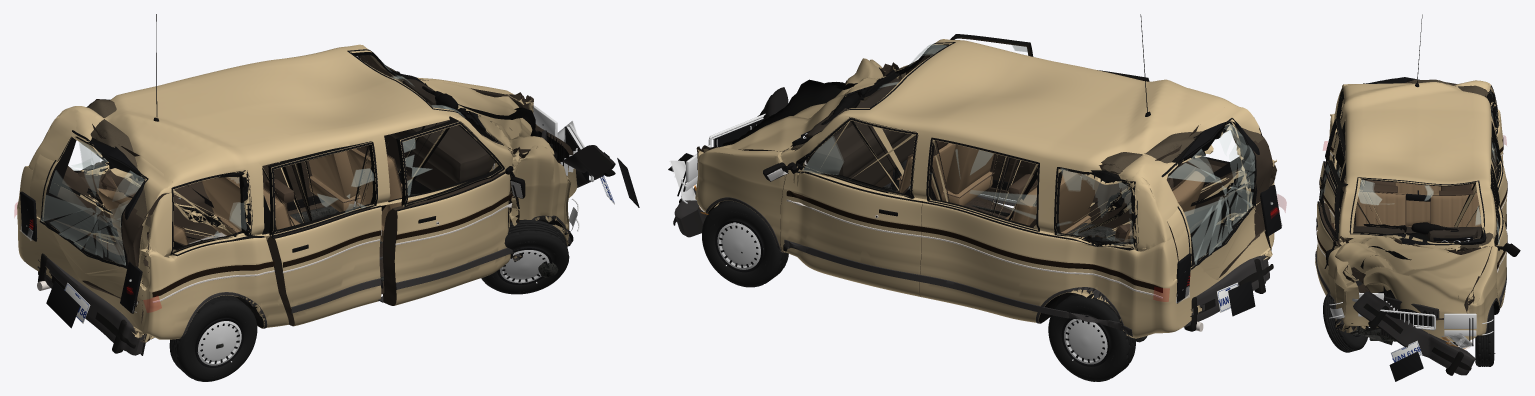
Rendered from minivan86_front_corner_R_d2.glb.
3 renders of one model, left to right at view 1: azimuth 30°, elevation 25°; view 2: azimuth 150°, elevation 25°; view 3: azimuth 270°, elevation 25°, orthographic. The views are drawn at different scales.
Parts seen in each view (by area): view 1: Body, Interior, Door_FR, Door_SR, Glass_Liftgate, Liftgate, Wheel_RR_mesh, Ends, Wheel_FR_mesh, Hood, Trim_FR, Trim (+8 smaller); view 2: Body, Door_FL, Interior, Trim, Glass_Liftgate, Liftgate, Wheel_RL_mesh, Wheel_FL_mesh, Hood, Ends, Glass, Trim_FL (+5 smaller); view 3: Body, Hood, Interior, Bumper_F, Ends, Glass, Door_FR, Trim, Wheel_FR_mesh, Door_FL, Wheel_FL_mesh, Door_SR (+6 smaller).
Boxes of the visible parts, box(x1,y1,x2,y2) form: Body: box(17, 44, 577, 342); Interior: box(96, 79, 495, 245); Door_FR: box(383, 116, 511, 305); Door_SR: box(267, 141, 381, 326); Glass_Liftgate: box(39, 130, 148, 268); Liftgate: box(29, 107, 174, 307); Wheel_RR_mesh: box(169, 295, 257, 381); Ends: box(20, 105, 639, 328); Wheel_FR_mesh: box(481, 219, 569, 294); Hood: box(420, 80, 554, 155); Trim_FR: box(378, 122, 525, 302); Trim: box(86, 14, 572, 339); Body: box(695, 39, 1276, 338); Door_FL: box(780, 117, 922, 296); Interior: box(801, 78, 1205, 242); Trim: box(705, 14, 1162, 337); Glass_Liftgate: box(1161, 118, 1259, 269); Liftgate: box(1130, 104, 1272, 279); Wheel_RL_mesh: box(1048, 293, 1135, 381); Wheel_FL_mesh: box(702, 200, 788, 287); Hood: box(720, 58, 889, 151); Ends: box(668, 113, 1282, 316); Glass: box(792, 42, 1138, 247); Trim_FL: box(763, 118, 922, 281); Body: box(1328, 79, 1507, 341); Hood: box(1335, 235, 1491, 318); Interior: box(1353, 179, 1481, 242); Bumper_F: box(1353, 291, 1475, 375); Ends: box(1329, 292, 1493, 381); Glass: box(1334, 91, 1500, 245); Door_FR: box(1315, 160, 1347, 295); Trim: box(1329, 14, 1507, 335); Wheel_FR_mesh: box(1323, 291, 1368, 352); Door_FL: box(1490, 163, 1507, 308); Wheel_FL_mesh: box(1475, 305, 1495, 366); Door_SR: box(1319, 118, 1345, 223).
Size of the model in its own units: 4.57 by 2.5 by 2.01.
Materials: 34 (5 with a texture image).
